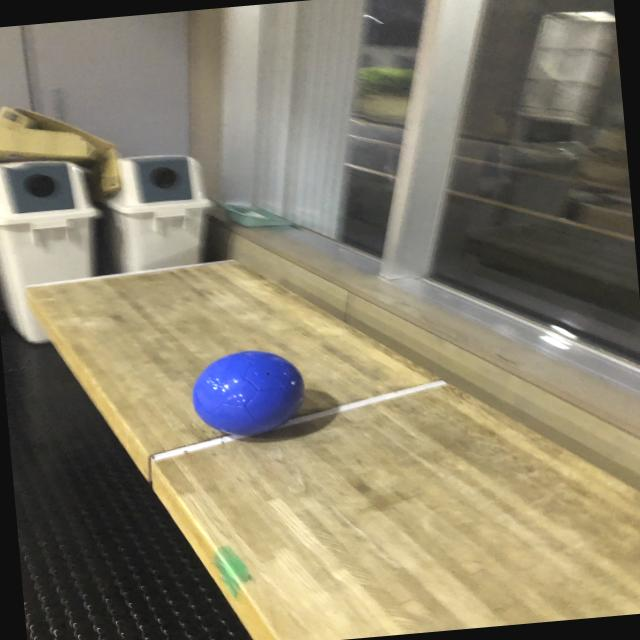blue_ball: (192, 346, 310, 438)
